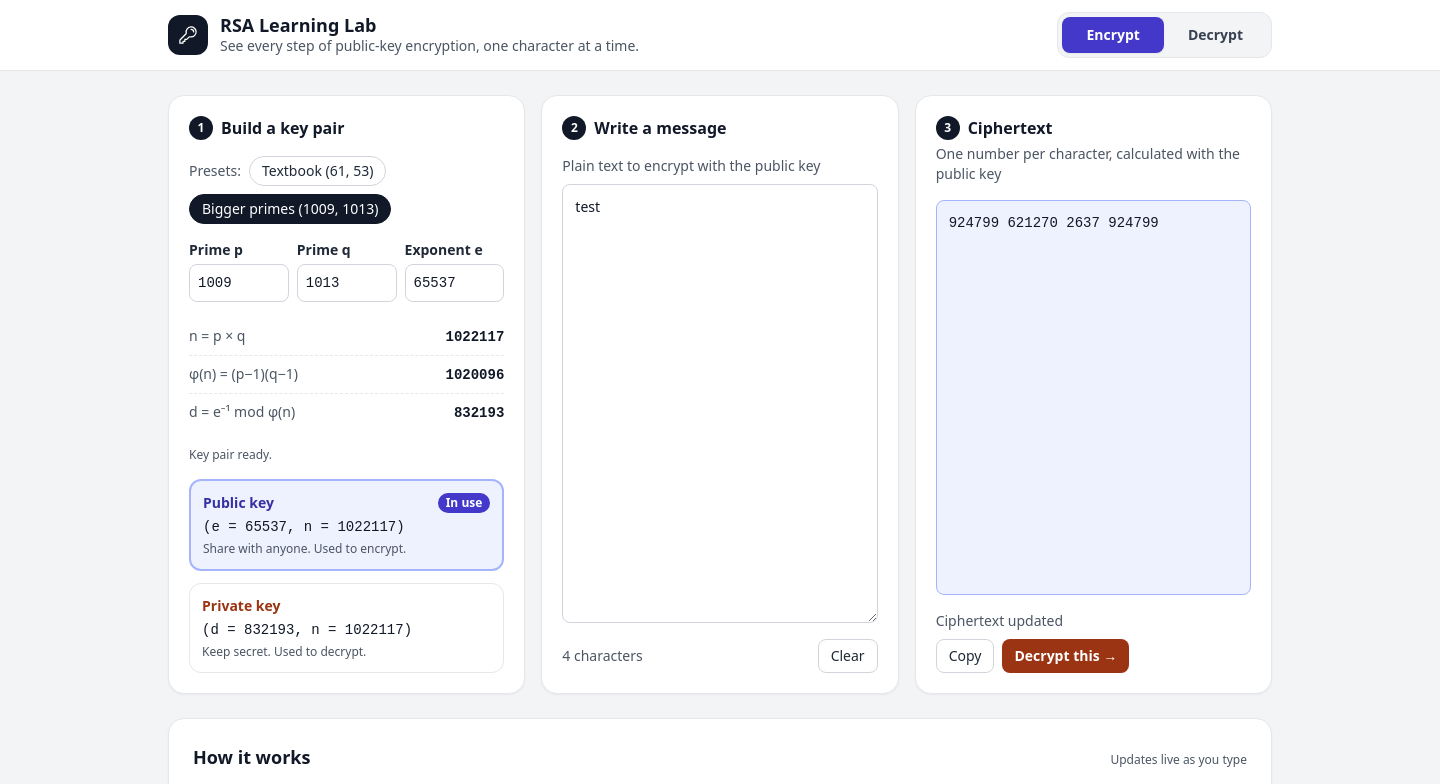
validation, loading, and failure states › shows specific inline errors, blocks the output, and keeps every input editable
Expected: the text named "Ciphertext output" reads "924799 621270 2637 924799", [949,215,1159,231]
Clear the field labelled "Prime p" at (239, 283), box [189,264,289,302]
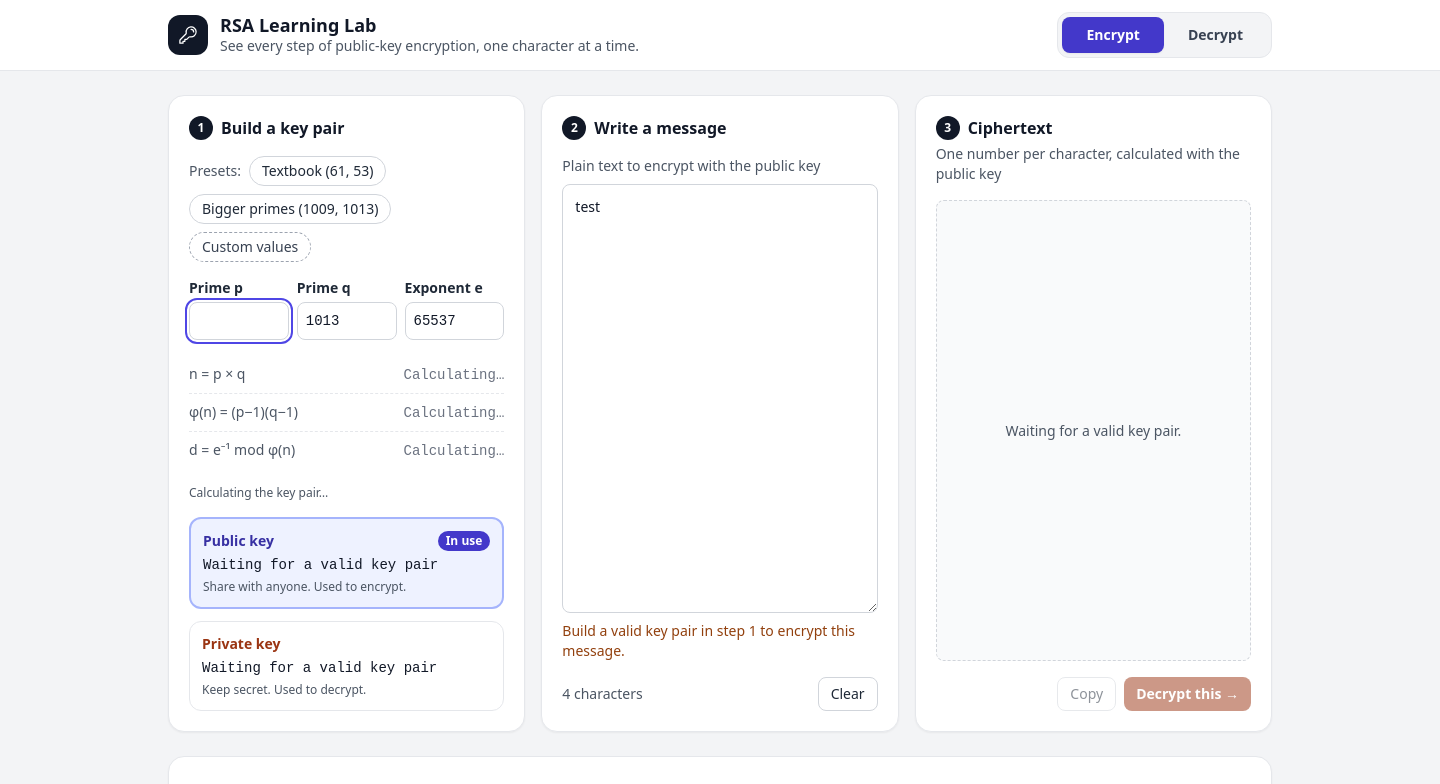
Type "12" into the field labelled "Prime p".
click(239, 321); type("12")  # box [189,302,289,340]
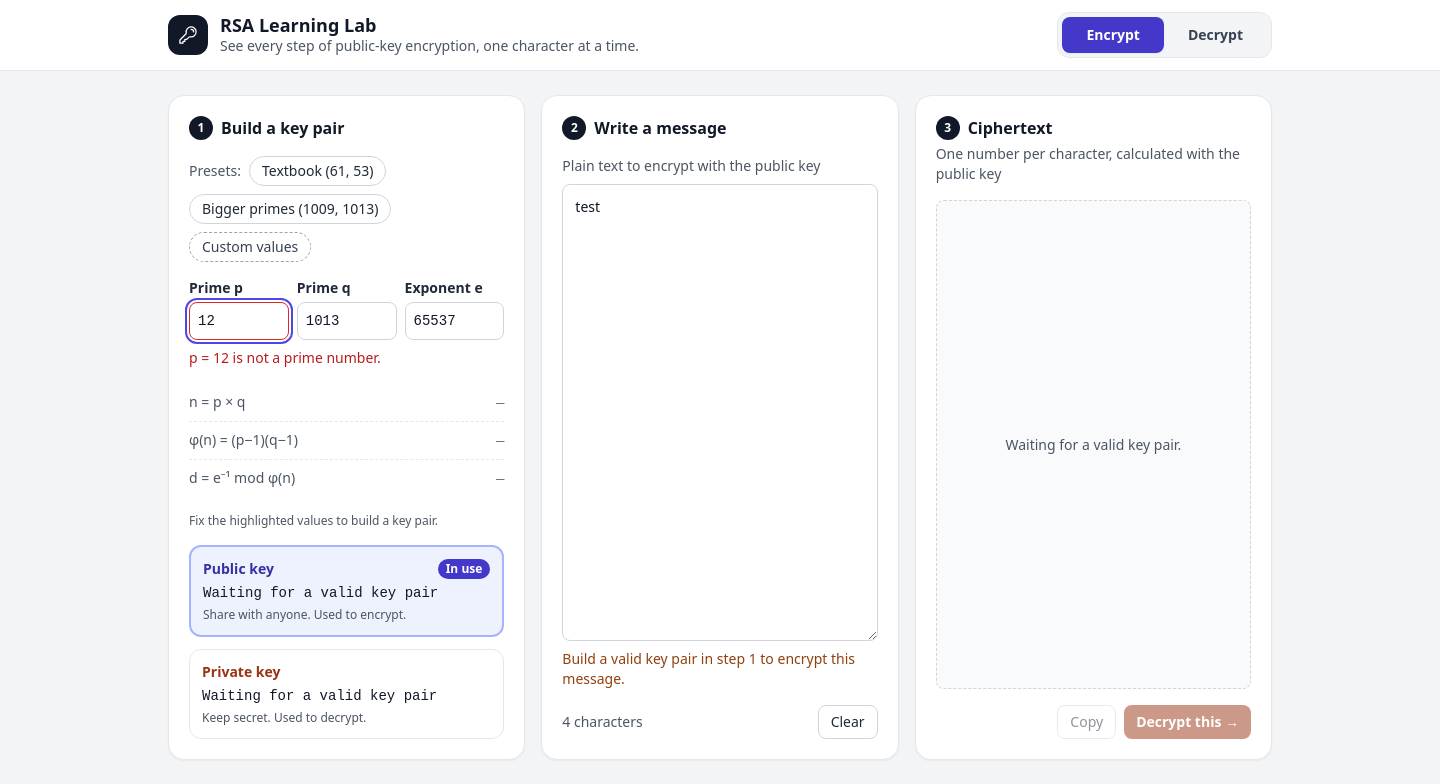
Expected: the text named "Ciphertext output" reads "Waiting for a valid key pair.", [1006,434,1181,454]
Expected: the list item "p = 12 is not a prime number." is shown, [189,348,381,367]
Expected: the text "Fix the highlighted values to build a key pair." is shown, [189,512,438,529]
Replace the text in the field labelled "Prime p" with "1009" at (239, 321), box [189,302,289,340]
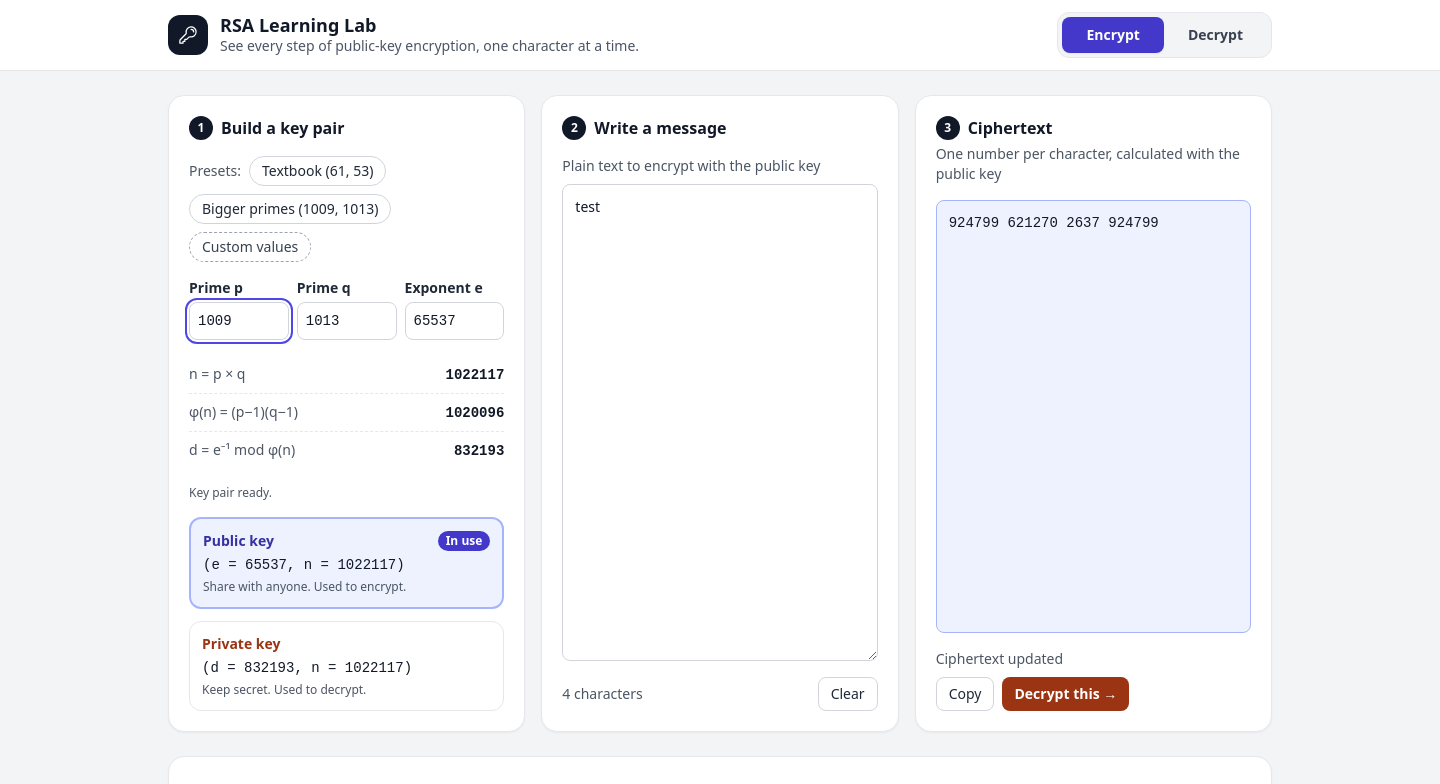
Expected: the text "Key pair ready." is shown, [189,484,272,501]
Expected: the text "1022117" is shown, [446,365,504,385]
Expected: the text "1020096" is shown, [446,403,504,423]
